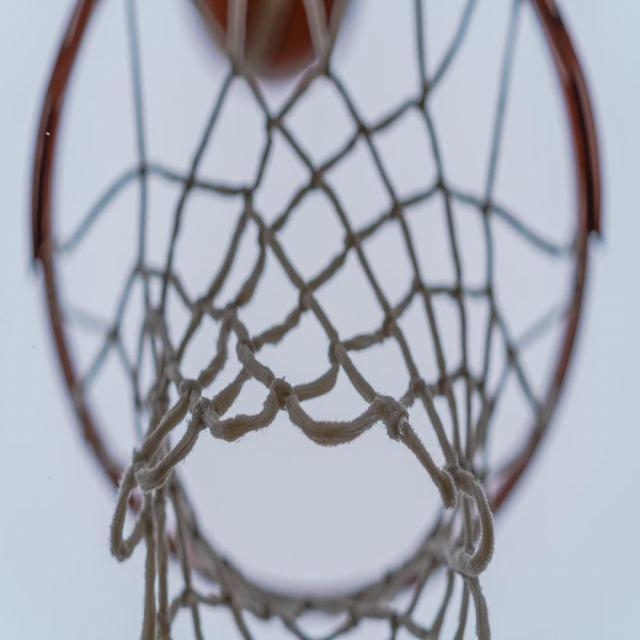Basketball: (196, 0, 349, 83)
hoop: (30, 0, 603, 640)
